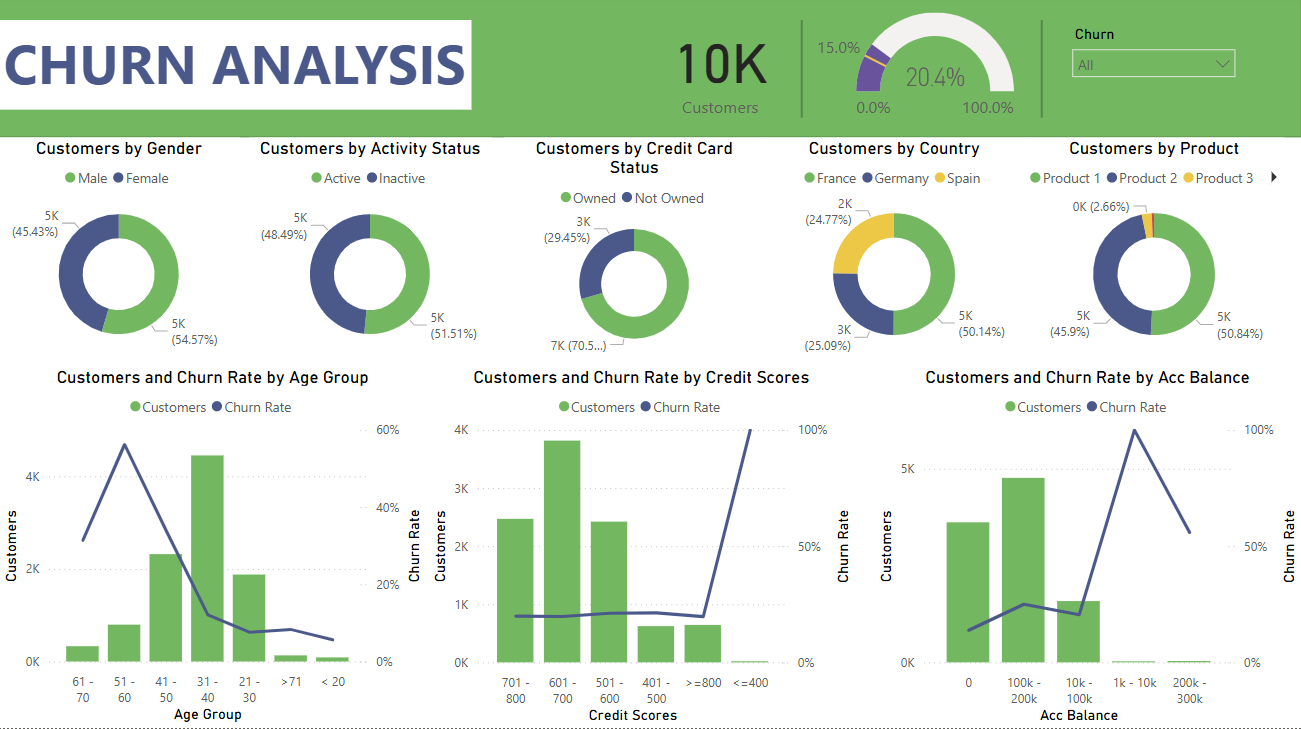

What the dashboard file says about the page in this screenshot:
{"tool":"powerbi","page":{"name":"Page 1","canvas":[1280,720],"ordinal":0},"visuals":[{"type":"shape","box":[0,1.2,1279.8,138.7],"z":0},{"type":"card","fields":{"Values":["Bank Customer Churn Prediction.customers"]},"box":[596.3,12.3,225.8,117.8],"z":1000},{"type":"donutChart","fields":{"Category":["Bank Customer Churn Prediction.Gender"],"Y":["Bank Customer Churn Prediction.customers"]},"box":[0,140,237.4,219.6],"z":2000},{"type":"donutChart","fields":{"Category":["Bank Customer Churn Prediction.Activity Status","Bank Customer Churn Prediction.Gender"],"Y":["Bank Customer Churn Prediction.customers"]},"box":[247,140,237.4,219.6],"z":3000},{"type":"donutChart","fields":{"Y":["Bank Customer Churn Prediction.customers"],"Category":["Bank Customer Churn Prediction.Credit Card Status"]},"box":[496.7,140,255.2,219.6],"z":4000},{"type":"donutChart","fields":{"Y":["Bank Customer Churn Prediction.customers"],"Category":["Bank Customer Churn Prediction.Country"]},"box":[752,140,255.2,219.6],"z":5000},{"type":"donutChart","fields":{"Y":["Bank Customer Churn Prediction.customers"],"Category":["Bank Customer Churn Prediction.Product"]},"box":[1007.2,140,255.2,219.6],"z":6000},{"type":"lineStackedColumnComboChart","fields":{"Category":["Bank Customer Churn Prediction.Age Group"],"Y":["Bank Customer Churn Prediction.customers"],"Y2":["Bank Customer Churn Prediction.Churn Rate"]},"box":[0,364.5,421.3,354.6],"z":7000},{"type":"lineStackedColumnComboChart","fields":{"Y":["Bank Customer Churn Prediction.customers"],"Y2":["Bank Customer Churn Prediction.Churn Rate"],"Category":["Bank Customer Churn Prediction.Credit Scores"]},"box":[421.3,365,421.3,355.4],"z":8000},{"type":"lineStackedColumnComboChart","fields":{"Y":["Bank Customer Churn Prediction.customers"],"Y2":["Bank Customer Churn Prediction.Churn Rate"],"Category":["Acc Balance Group.Acc Balance"]},"box":[859,365,421.3,355.4],"z":9000},{"type":"slicer","fields":{"Values":["Bank Customer Churn Prediction.Churn"]},"box":[1044.2,24.5,180.4,93.3],"z":10000},{"type":"gauge","fields":{"MinValue":["Min(Bank Customer Churn Prediction.Min Churn Rate)"],"MaxValue":["Max(Bank Customer Churn Prediction.Max Churn Rate)"],"TargetValue":["Max(Bank Customer Churn Prediction.Target Churn Rate)"],"Y":["Bank Customer Churn Prediction.Churn Rate"]},"box":[771.8,12.3,255.2,119],"z":11000},{"type":"textbox","box":[0,24.5,465,88.3],"z":12000},{"type":"shape","box":[771.8,24.5,34.4,95.7],"z":13000},{"type":"shape","box":[1007.4,24.5,34.4,95.7],"z":14000}]}

Visuals, with their boxes in screenshot pixels (x1, y1, x2, y2), scaled from the page's 1280x720 canvas onto the 1301x729 screenshot:
shape: pyautogui.locateOnScreen(0, 1, 1300, 142)
card - Bank Customer Churn Prediction.customers: pyautogui.locateOnScreen(606, 12, 836, 132)
donutChart - Bank Customer Churn Prediction.Gender x Bank Customer Churn Prediction.customers: pyautogui.locateOnScreen(0, 142, 241, 364)
donutChart - Bank Customer Churn Prediction.Activity Status x Bank Customer Churn Prediction.Gender: pyautogui.locateOnScreen(251, 142, 492, 364)
donutChart - Bank Customer Churn Prediction.customers x Bank Customer Churn Prediction.Credit Card Status: pyautogui.locateOnScreen(505, 142, 764, 364)
donutChart - Bank Customer Churn Prediction.customers x Bank Customer Churn Prediction.Country: pyautogui.locateOnScreen(764, 142, 1024, 364)
donutChart - Bank Customer Churn Prediction.customers x Bank Customer Churn Prediction.Product: pyautogui.locateOnScreen(1024, 142, 1283, 364)
lineStackedColumnComboChart - Bank Customer Churn Prediction.Age Group x Bank Customer Churn Prediction.customers: pyautogui.locateOnScreen(0, 369, 428, 728)
lineStackedColumnComboChart - Bank Customer Churn Prediction.customers x Bank Customer Churn Prediction.Churn Rate: pyautogui.locateOnScreen(428, 370, 856, 728)
lineStackedColumnComboChart - Bank Customer Churn Prediction.customers x Bank Customer Churn Prediction.Churn Rate: pyautogui.locateOnScreen(873, 370, 1300, 728)
slicer - Bank Customer Churn Prediction.Churn: pyautogui.locateOnScreen(1061, 25, 1245, 119)
gauge - Min(Bank Customer Churn Prediction.Min Churn Rate) x Max(Bank Customer Churn Prediction.Max Churn Rate): pyautogui.locateOnScreen(784, 12, 1044, 133)
textbox: pyautogui.locateOnScreen(0, 25, 473, 114)
shape: pyautogui.locateOnScreen(784, 25, 819, 122)
shape: pyautogui.locateOnScreen(1024, 25, 1059, 122)
